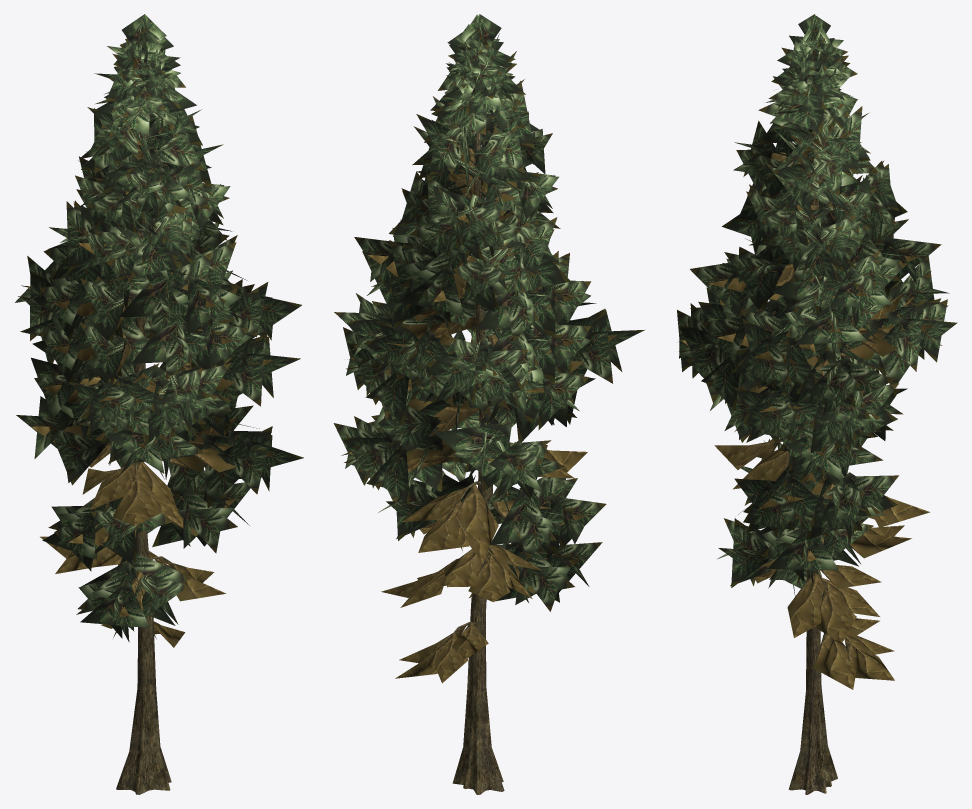
The model's file is PineBig1.fbx.
3 views of the same model, side by side, from view 1: azimuth 30°, elevation 25°; view 2: azimuth 150°, elevation 25°; view 3: azimuth 270°, elevation 25° (orthographic).
Visible parts, largest first — view 1: PineBig1_LOD0; view 2: PineBig1_LOD0; view 3: PineBig1_LOD0.
Part boxes in pixels (x1,y1,x2,y2): PineBig1_LOD0: [15, 14, 303, 794]; PineBig1_LOD0: [333, 14, 645, 794]; PineBig1_LOD0: [677, 14, 957, 794].
Size of what is drawn, in the model's own units: 11.41 by 35.42 by 11.84.
